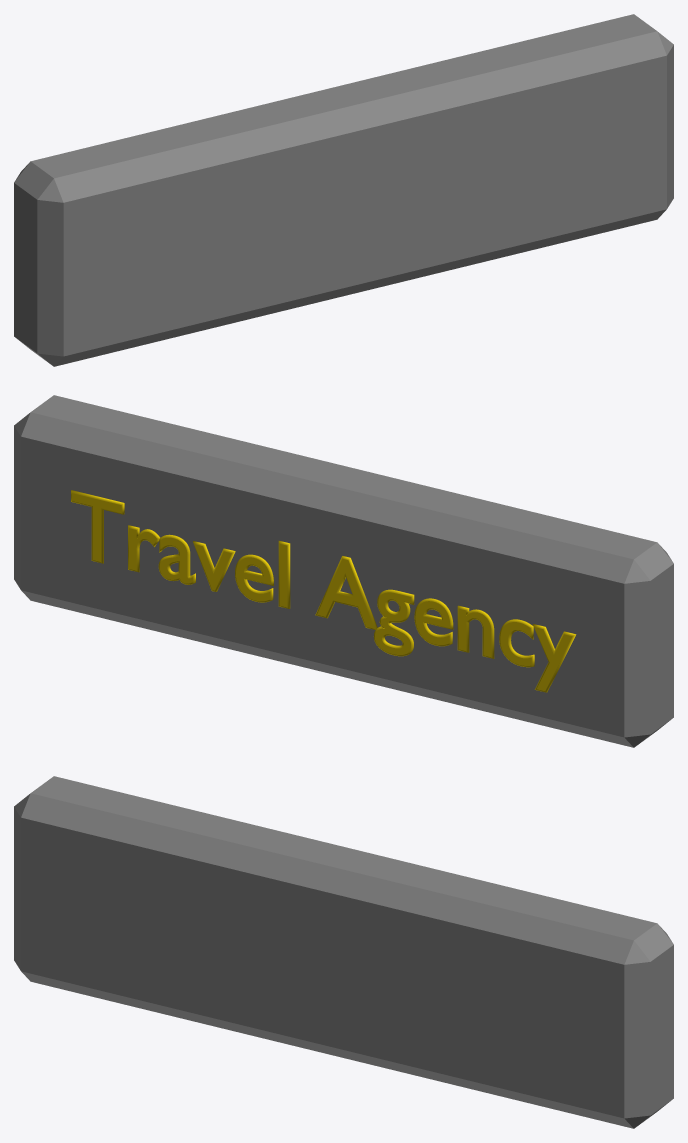
Rendered from travel agency sign.fbx.
3 renders of one model, top to bottom at view 1: azimuth 30°, elevation 25°; view 2: azimuth 150°, elevation 25°; view 3: azimuth 330°, elevation 25°, orthographic.
Visible parts, largest first — view 1: Cube; view 2: Cube, Text; view 3: Cube.
Boxes of the visible parts, box(x1,y1,x2,y2) form: Cube: box(14, 14, 673, 366); Cube: box(14, 395, 673, 747); Text: box(71, 490, 576, 692); Cube: box(14, 776, 673, 1128).
Bounding box in the file's own units: 2645 × 748 × 317.
